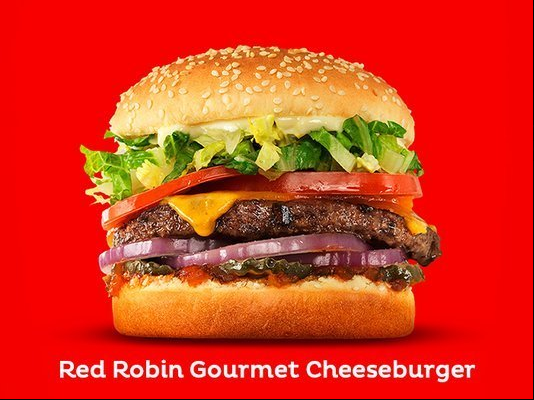soup: (93, 46, 442, 345)
